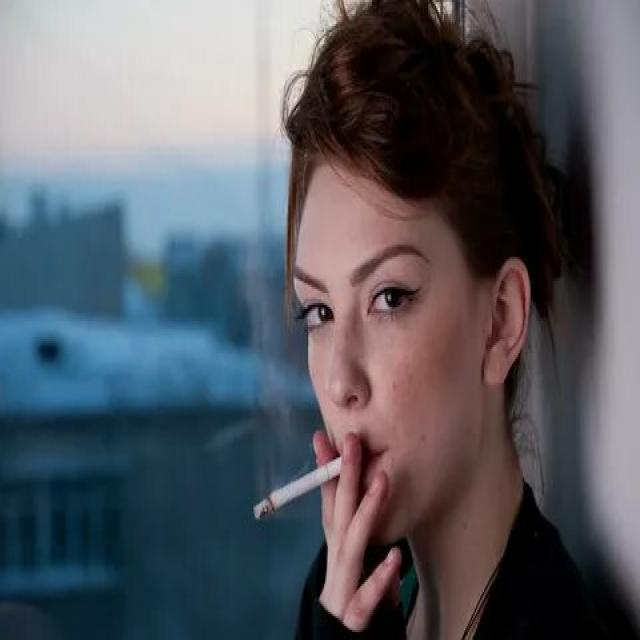smoke: (250, 435, 354, 528)
